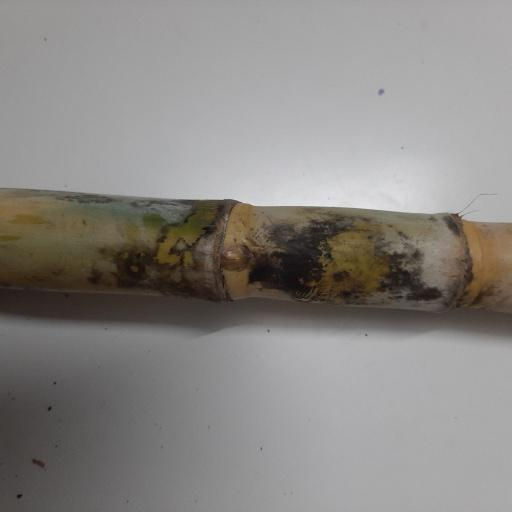Bud: (220, 246, 248, 271)
